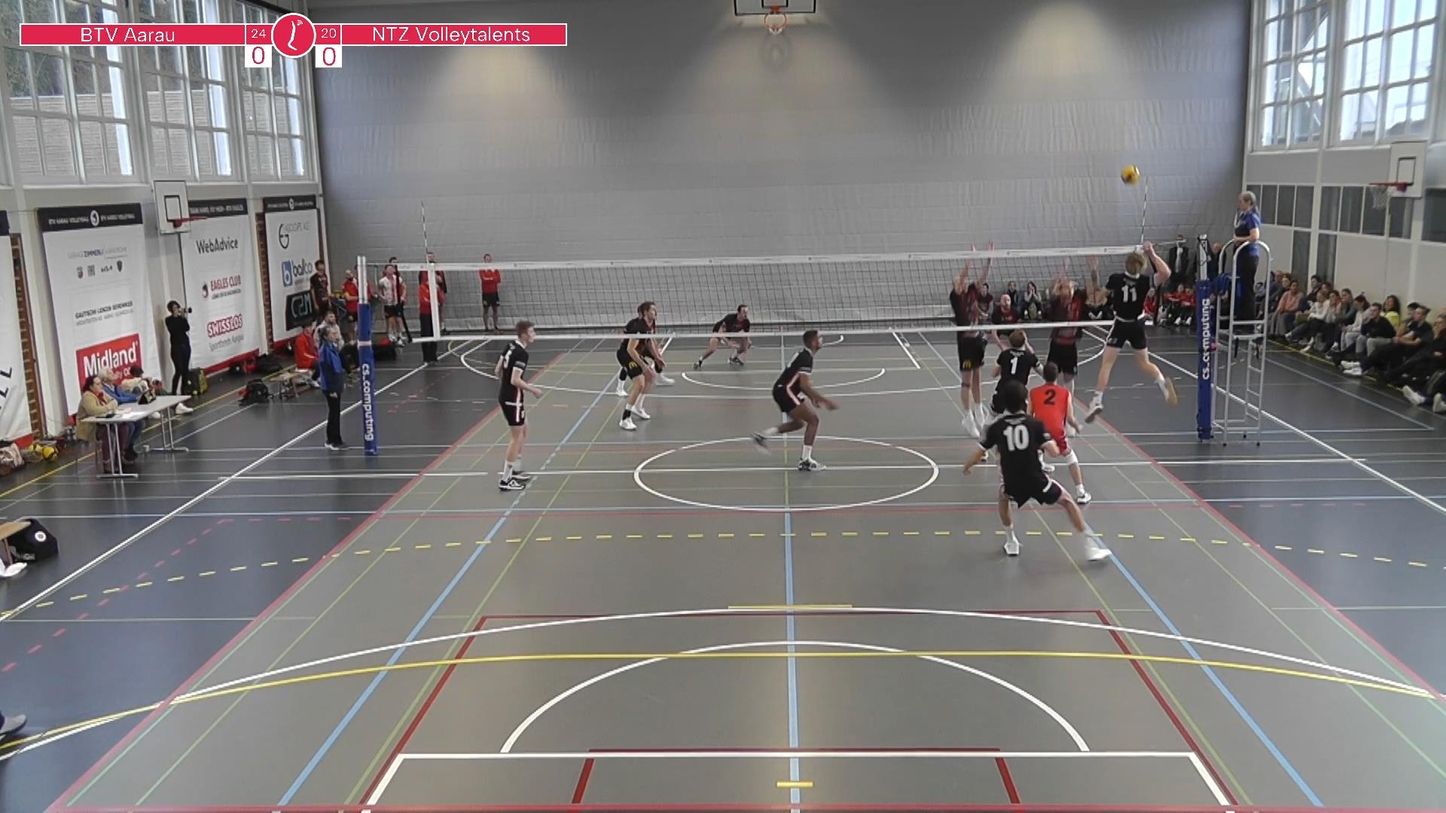attacco: (1082, 240, 1178, 425)
